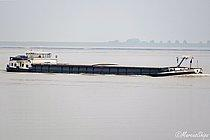Ship: (5, 46, 206, 81)
